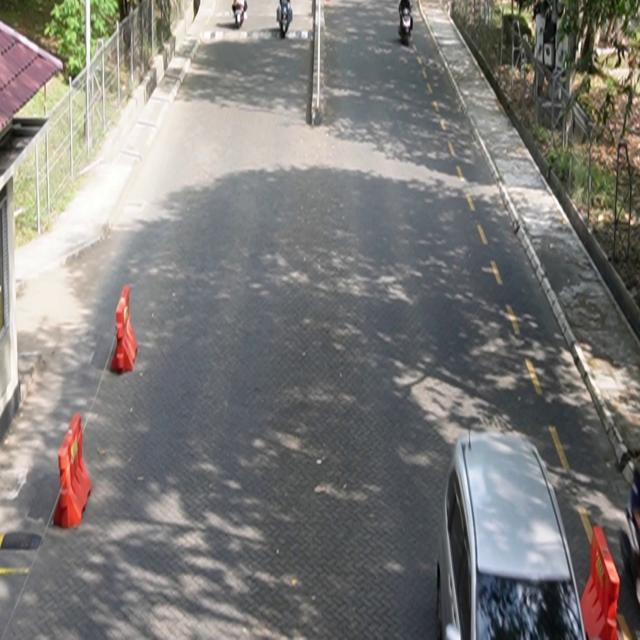car: (436, 429, 588, 640)
